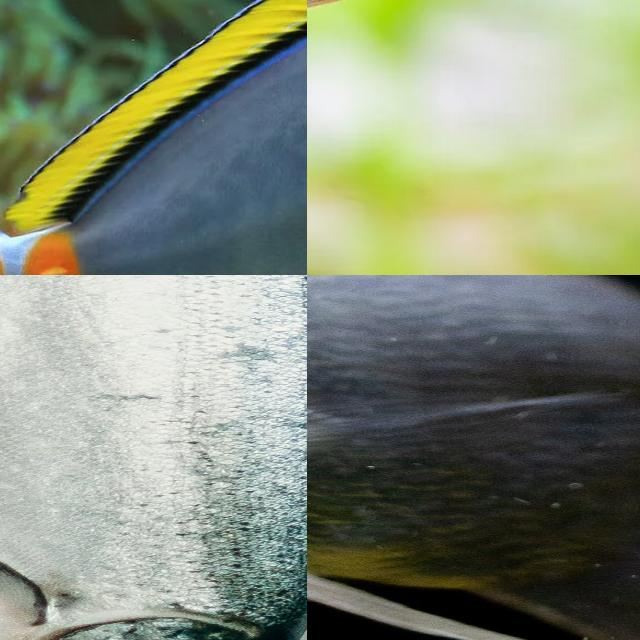fish: (307, 275, 640, 640), (0, 275, 307, 625), (307, 21, 640, 275), (0, 0, 307, 275)
